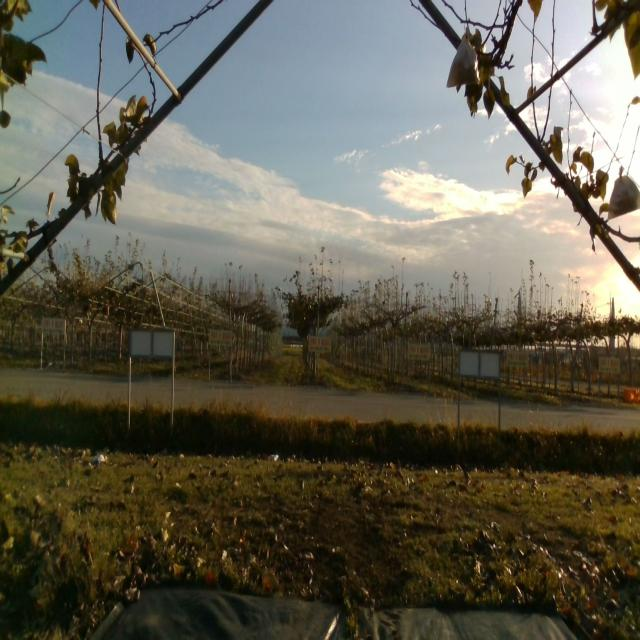pearbags: (445, 26, 481, 89), (606, 164, 640, 222)
